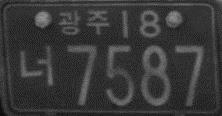1: (119, 9, 131, 40)
5: (105, 42, 135, 107)
7: (65, 42, 98, 107), (173, 44, 205, 107)
8: (139, 43, 171, 107), (138, 9, 161, 38)
광주_O: (58, 9, 110, 36)
너: (18, 44, 55, 88)
